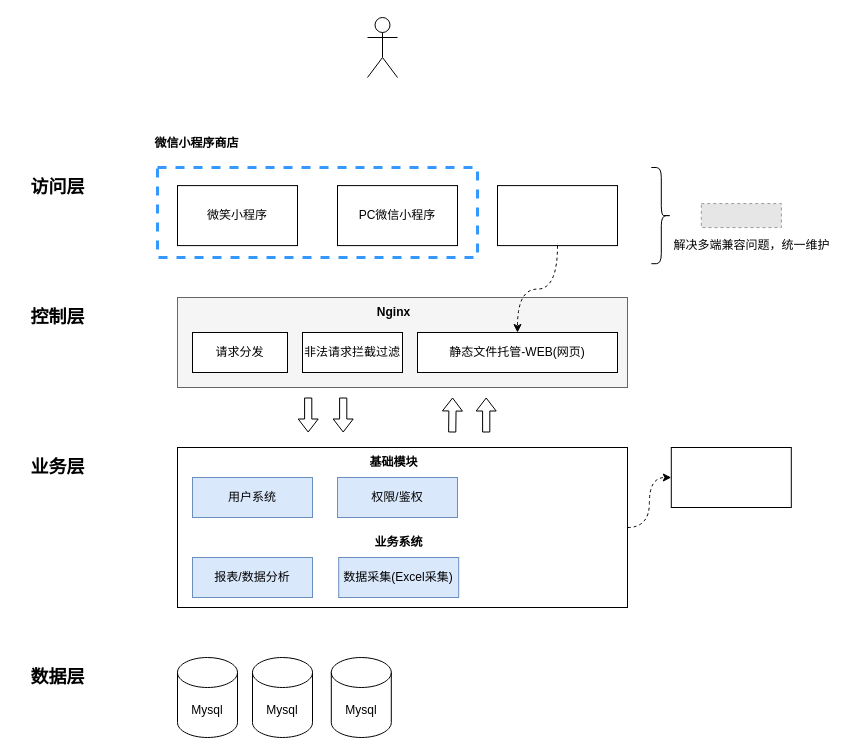
Some shapes in this 858 by 755 pixel diagram are drawn without their labels. Grey dashed boxes stand in for pictures. Each missing label, with the centre of its shape:
WEB(网页): point 557,215
文件系统: point 730,477
用户: point 382,47
